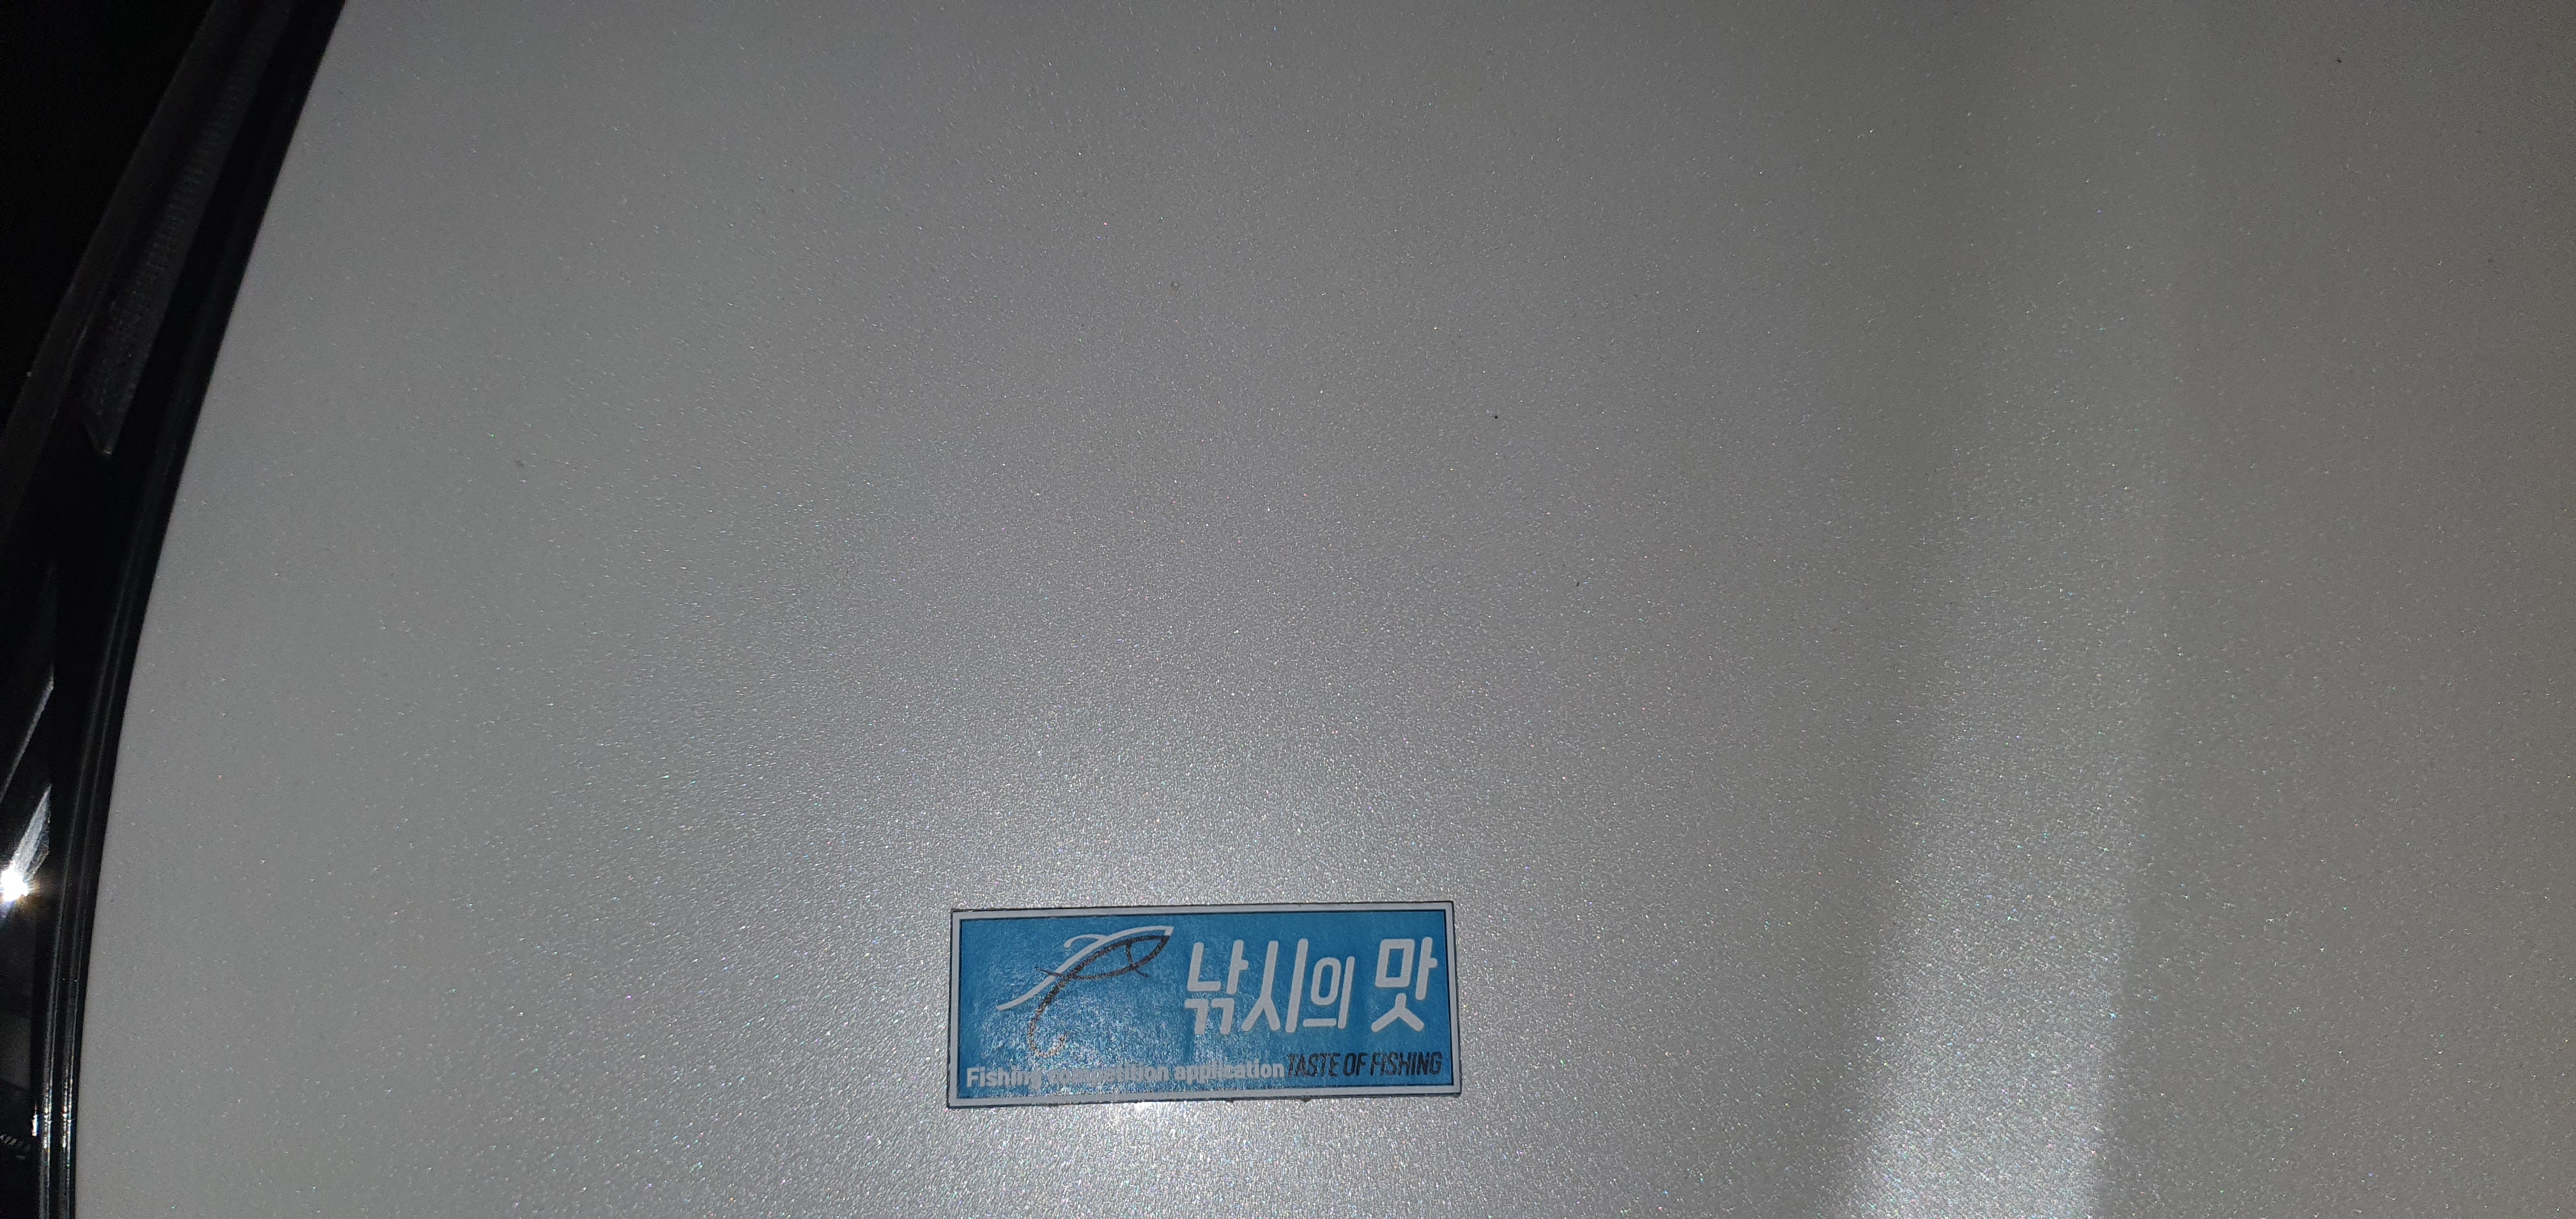tag: (948, 904, 1467, 1101)
